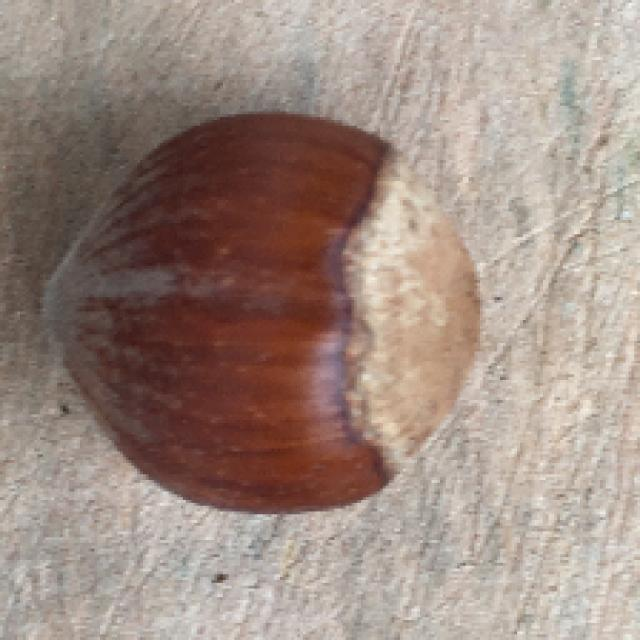qualityHazelnut: (29, 99, 491, 522)
